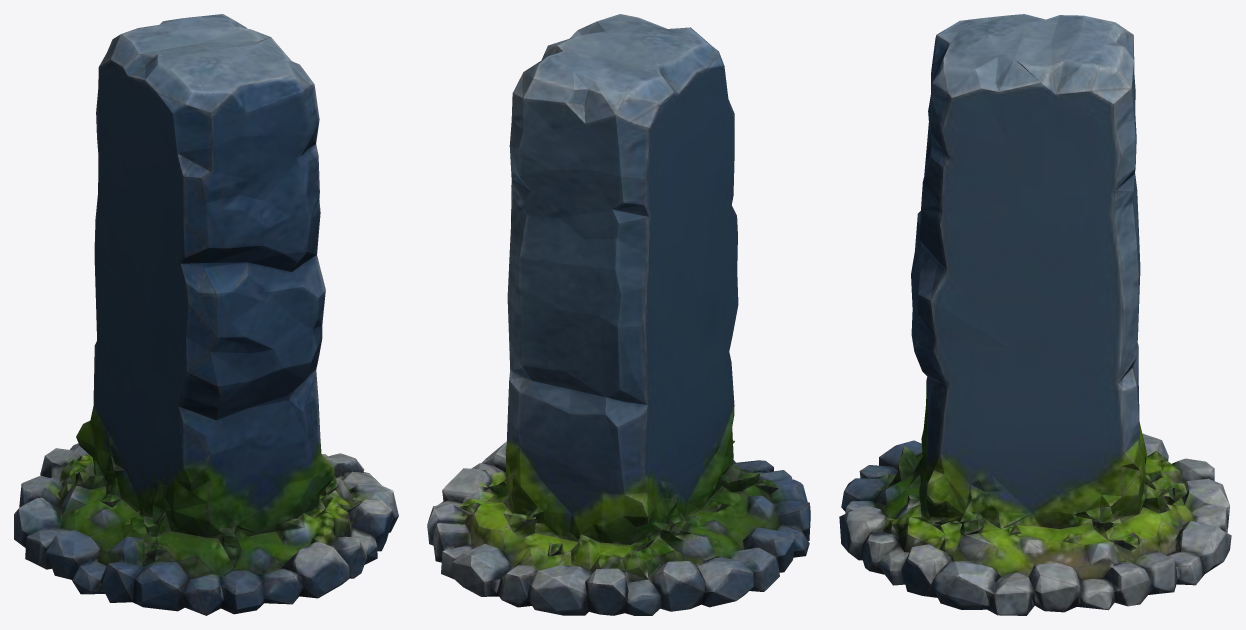
File: bargain_stone_crypt.glb
3 views of the same model, side by side, from view 1: azimuth 30°, elevation 25°; view 2: azimuth 150°, elevation 25°; view 3: azimuth 270°, elevation 25° (orthographic).
Parts seen in each view (by area): view 1: tripo_node_6990ff08-899c-4bf6-a8ff-b1057684c0ed.001; view 2: tripo_node_6990ff08-899c-4bf6-a8ff-b1057684c0ed.001; view 3: tripo_node_6990ff08-899c-4bf6-a8ff-b1057684c0ed.001.
Part boxes in pixels (x1,y1,x2,y2): tripo_node_6990ff08-899c-4bf6-a8ff-b1057684c0ed.001: [14, 14, 398, 615]; tripo_node_6990ff08-899c-4bf6-a8ff-b1057684c0ed.001: [427, 14, 810, 615]; tripo_node_6990ff08-899c-4bf6-a8ff-b1057684c0ed.001: [839, 14, 1231, 615].
Size of the model in its own units: 0.6961 by 0.9989 by 0.7123.
Materials: 1 (1 with a texture image).
